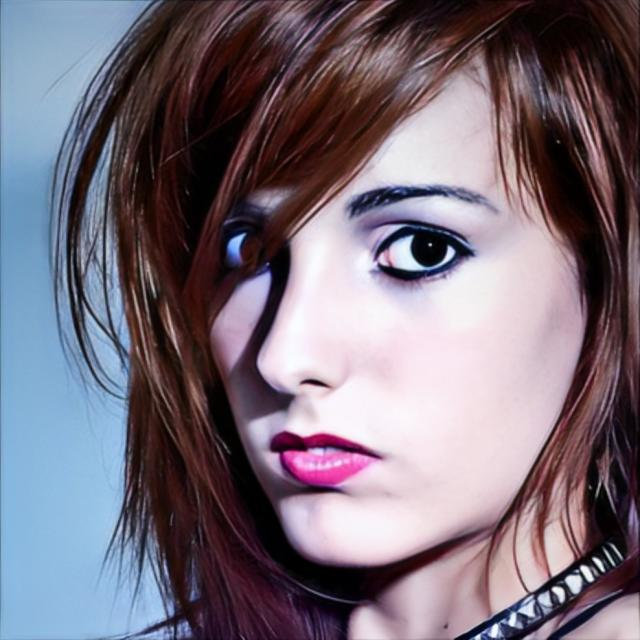neutral: (200, 54, 594, 569)
